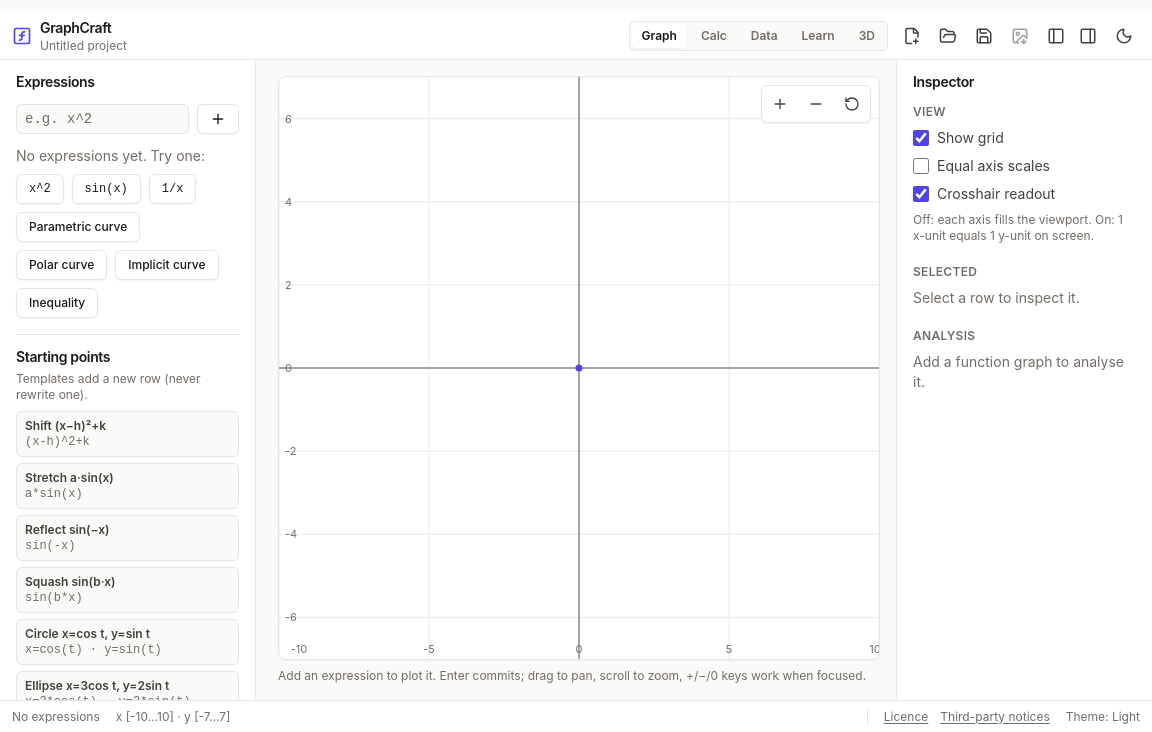
analysis integration › surfaces the extrema budget warning when refinement runs out of evaluations
Type "abs(sin(200*x))" into the field named "New expression".
click(102, 119); type("abs(sin(200*x))")  # box [16,104,189,134]
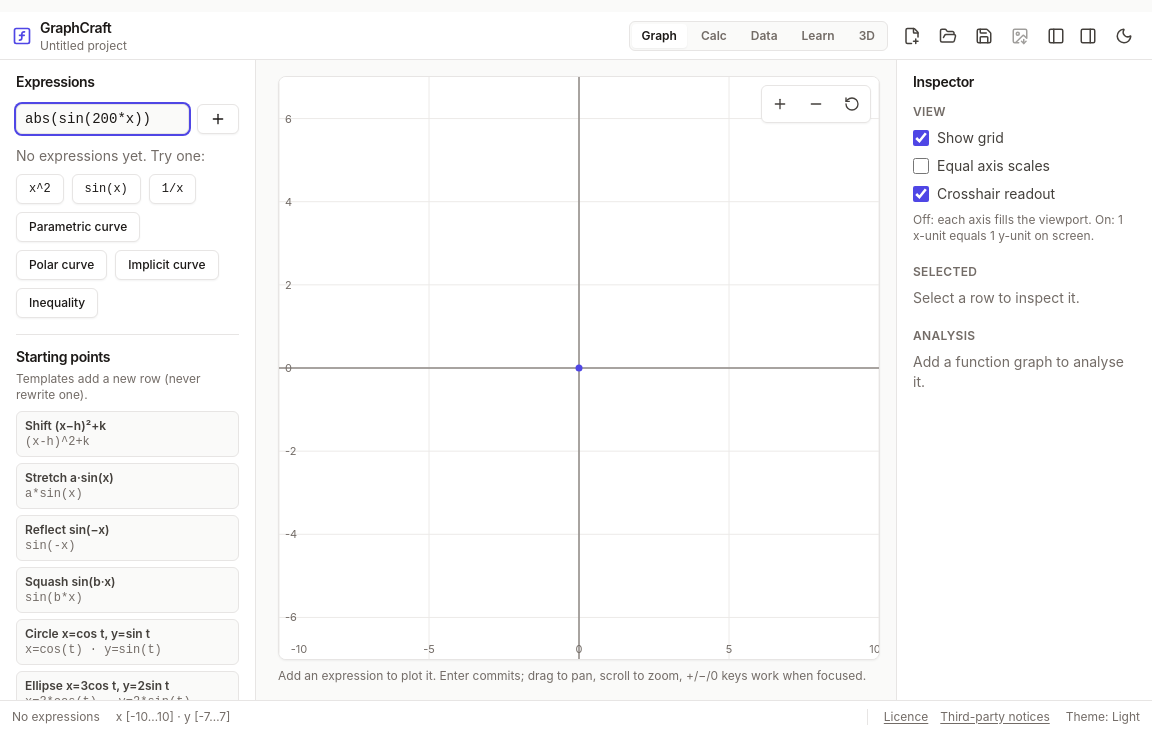
Press Enter
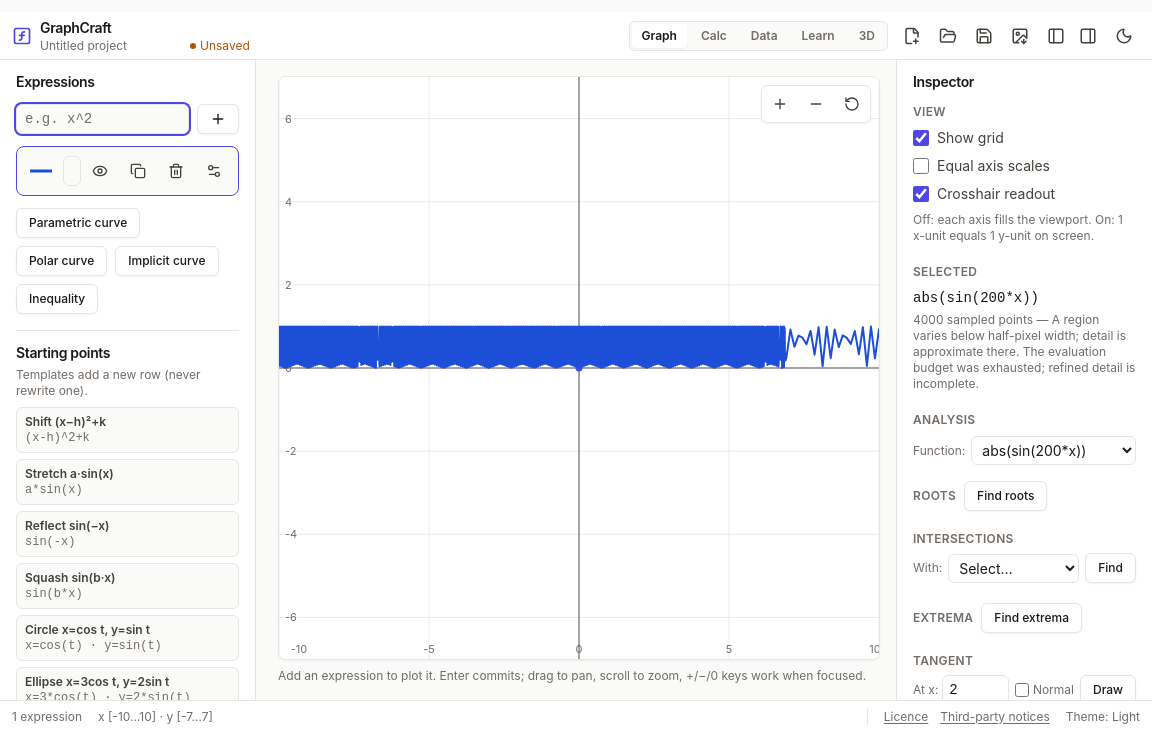
Check: the picture named "abs(sin(200*x))" is shown, box [279,77,879,659]
Click the button "Find extrema".
click(1032, 618)  # box [981,603,1082,633]
(page scrolled)
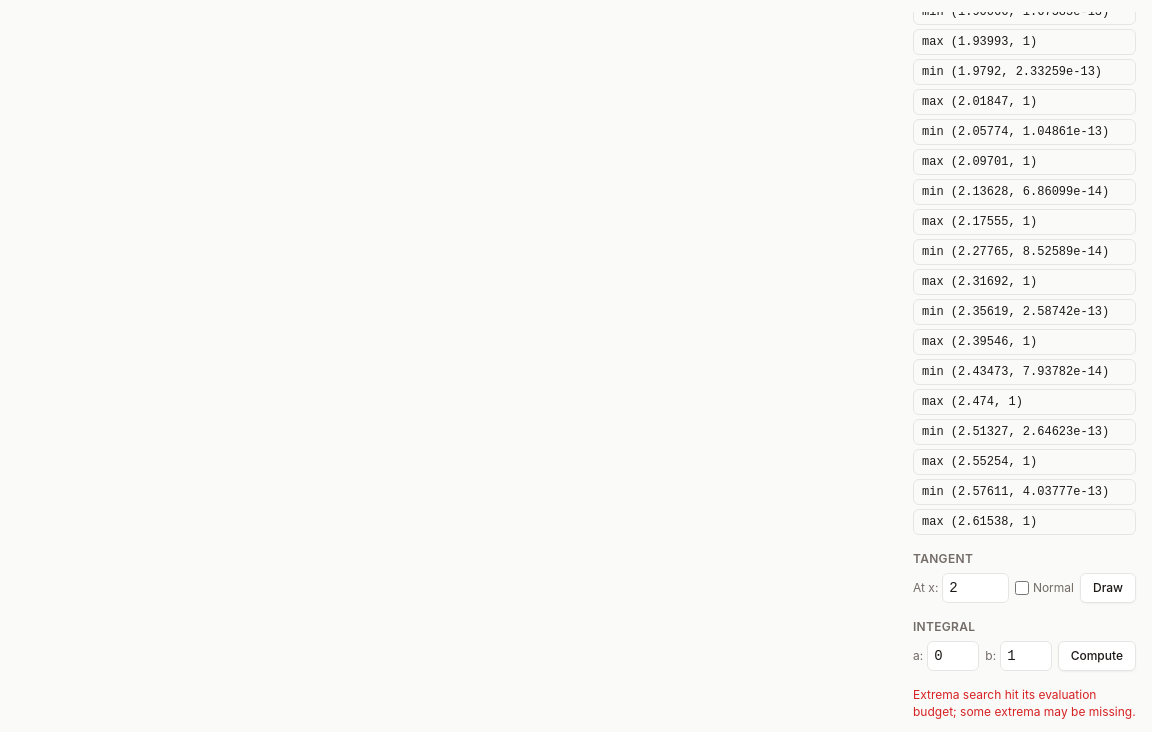
Check: the message shows "budget", box [913,687,1136,718]
